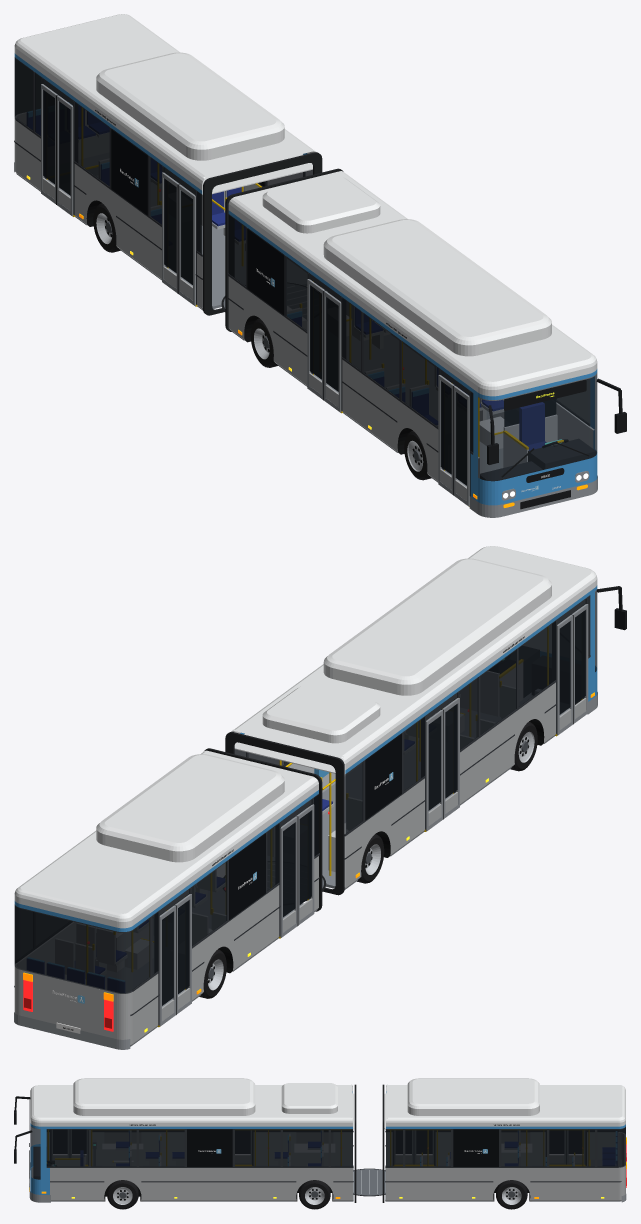
The model's file is bus_idfm_artic.glb.
3 views of the same model, one above another, from view 1: azimuth 30°, elevation 25°; view 2: azimuth 150°, elevation 25°; view 3: azimuth 270°, elevation 25° (orthographic). The views are drawn at different scales.
Parts seen in each view (by area): view 1: body, body_rear, door1_a, door2_a, door3_a, door0_a, door1_b, door2_b, door3_b, door0_b, mirrors, wheel_front_right (+2 smaller); view 2: body, body_rear, door1_b, door2_b, door2_a, door1_a, door3_b, door0_b, door3_a, door0_a, wheel_rear_right, wheel_front_right (+1 smaller); view 3: body, body_rear, wheel_rear_left, wheel_middle_left, wheel_front_left, door1_b, door2_b, door2_a, door3_a, door0_a, door3_b, door0_b (+1 smaller).
Boxes of the visible parts, bbox=[...] form: body: bbox=[221, 168, 597, 517]; body_rear: bbox=[14, 14, 322, 315]; door1_a: bbox=[323, 290, 341, 412]; door2_a: bbox=[177, 184, 195, 305]; door3_a: bbox=[56, 95, 73, 216]; door0_a: bbox=[453, 385, 469, 506]; door1_b: bbox=[307, 279, 324, 399]; door2_b: bbox=[162, 172, 179, 293]; door3_b: bbox=[41, 84, 57, 204]; door0_b: bbox=[438, 375, 454, 494]; mirrors: bbox=[487, 378, 626, 464]; wheel_front_right: bbox=[404, 431, 431, 480]; body: bbox=[223, 546, 597, 901]; body_rear: bbox=[14, 748, 322, 1049]; door1_b: bbox=[426, 709, 443, 831]; door2_b: bbox=[280, 816, 297, 937]; door2_a: bbox=[296, 804, 314, 925]; door1_a: bbox=[441, 698, 459, 819]; door3_b: bbox=[159, 905, 175, 1026]; door0_b: bbox=[557, 614, 573, 735]; door3_a: bbox=[174, 894, 191, 1014]; door0_a: bbox=[572, 604, 588, 724]; wheel_rear_right: bbox=[199, 949, 226, 998]; wheel_front_right: bbox=[510, 722, 537, 771]; body: bbox=[29, 1078, 385, 1202]; body_rear: bbox=[382, 1078, 626, 1202]; wheel_rear_left: bbox=[496, 1180, 527, 1209]; wheel_middle_left: bbox=[299, 1180, 330, 1209]; wheel_front_left: bbox=[107, 1180, 138, 1209]; door1_b: bbox=[235, 1131, 251, 1163]; door2_b: bbox=[415, 1131, 433, 1163]; door2_a: bbox=[395, 1131, 413, 1163]; door3_a: bbox=[550, 1131, 565, 1163]; door0_a: bbox=[52, 1130, 69, 1159]; door3_b: bbox=[566, 1131, 584, 1163]; door0_b: bbox=[70, 1130, 87, 1163].
Size of the model in its own units: 3.01 by 3.4 by 18.52.
